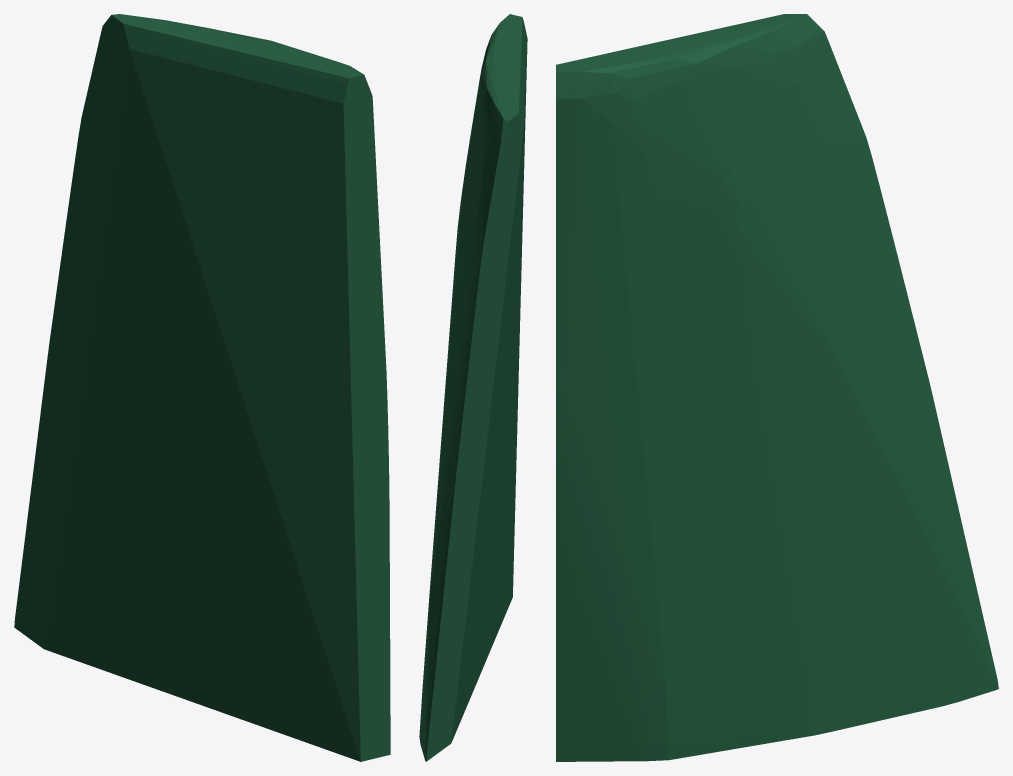
Rendered from left-shoulder-pitch-0_part_155.obj.
3 views of the same model, side by side, from view 1: azimuth 30°, elevation 25°; view 2: azimuth 150°, elevation 25°; view 3: azimuth 270°, elevation 25° (orthographic). The views are drawn at different scales.
Bounding box in the file's own units: 0.0109 × 0.0472 × 0.028.
